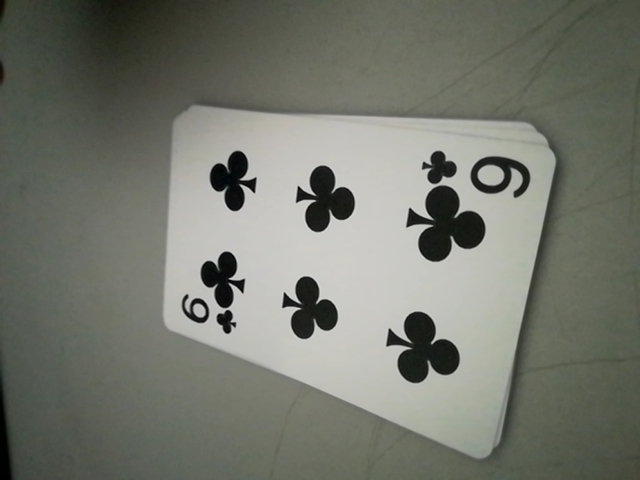mh 6: (421, 147, 535, 195), (174, 297, 241, 339)
